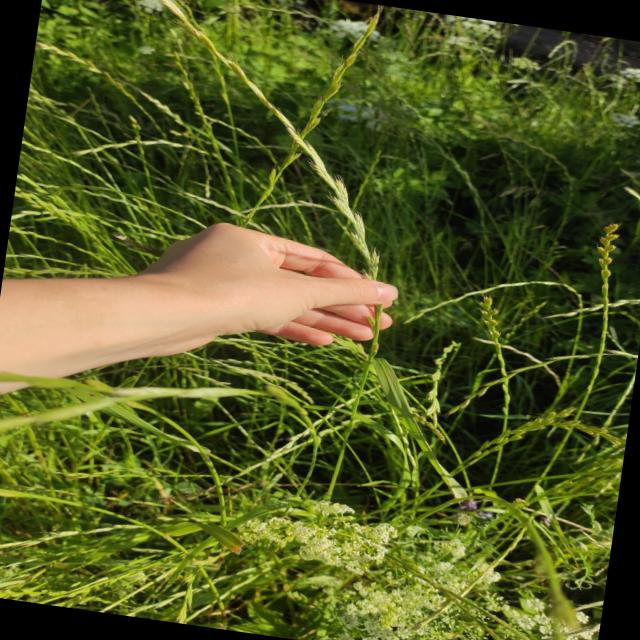Lolium: (0, 190, 640, 640), (124, 0, 413, 264), (200, 397, 372, 518), (420, 339, 465, 429), (470, 297, 516, 356), (596, 219, 634, 289)
